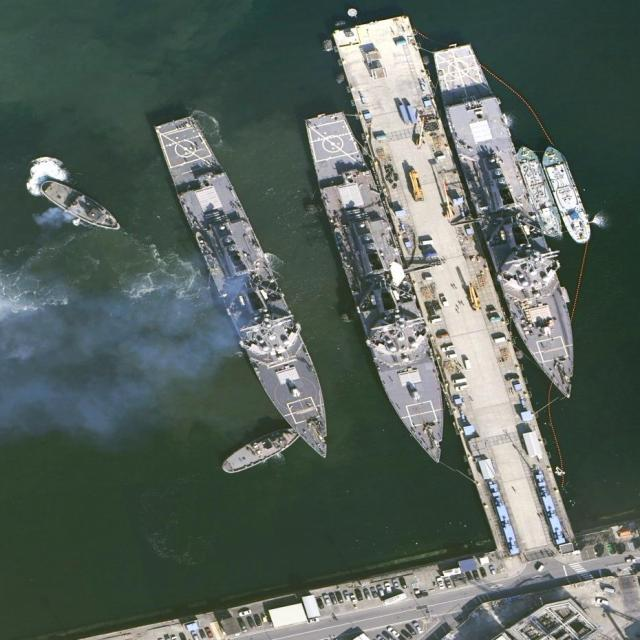Destroyer: (144, 96, 349, 471), (297, 104, 465, 474), (428, 37, 589, 409)
Dock: (334, 11, 570, 564)
Other Ship: (537, 142, 595, 248), (515, 142, 565, 242)
Other Warship: (35, 175, 126, 238), (216, 421, 303, 479)
